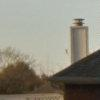Chimney: (62, 12, 100, 66)
